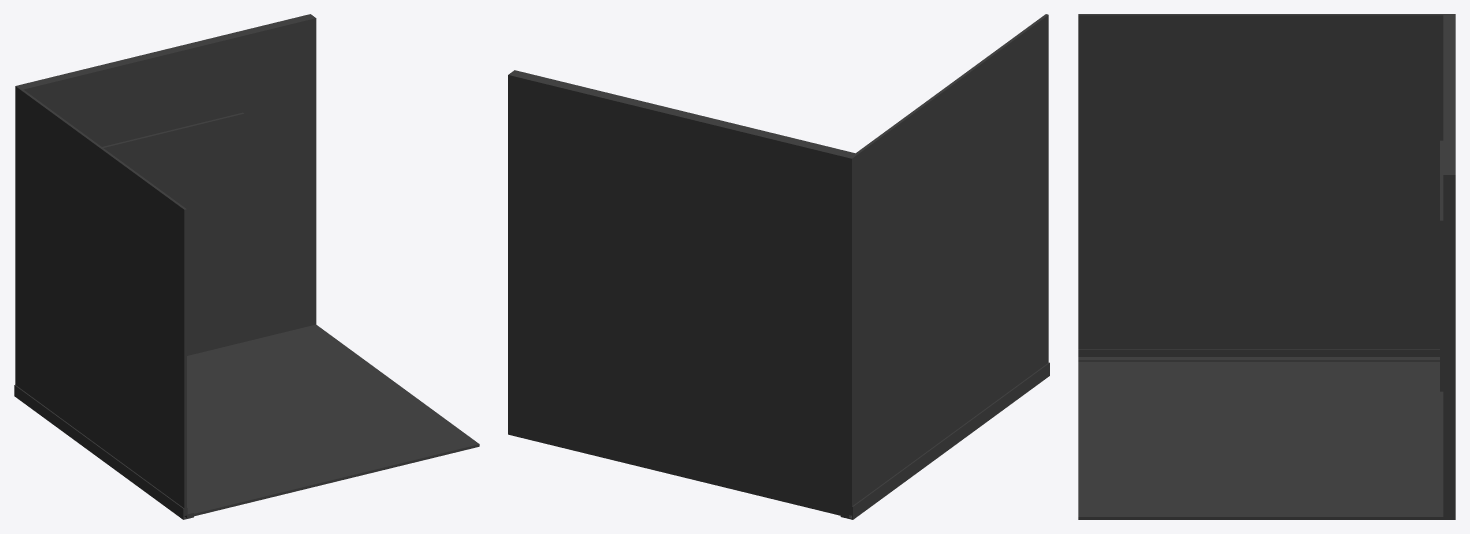
File: ar-box-from-obj.glb
3 renders of one model, left to right at view 1: azimuth 30°, elevation 25°; view 2: azimuth 150°, elevation 25°; view 3: azimuth 270°, elevation 25°, orthographic. The views are drawn at different scales.
Visible parts, largest first — view 1: GEN_Box_QR code.obj_2, GEN_Box_QR code.obj_3, GEN_Box_QR code.obj, GEN_Box_QR code.obj_1; view 2: GEN_Box_QR code.obj_3, GEN_Box_QR code.obj_2, GEN_Box_QR code.obj_1; view 3: GEN_Box_QR code.obj_2, GEN_Box_QR code.obj_3, GEN_Box_QR code.obj_1, GEN_Box_QR code.obj.
Boxes of the visible parts, bbox=[...] form: GEN_Box_QR code.obj_2: bbox=[15, 85, 479, 517]; GEN_Box_QR code.obj_3: bbox=[18, 14, 316, 355]; GEN_Box_QR code.obj: bbox=[102, 112, 244, 280]; GEN_Box_QR code.obj_1: bbox=[14, 385, 193, 519]; GEN_Box_QR code.obj_3: bbox=[508, 70, 854, 514]; GEN_Box_QR code.obj_2: bbox=[508, 14, 1048, 517]; GEN_Box_QR code.obj_1: bbox=[840, 362, 1049, 519]; GEN_Box_QR code.obj_2: bbox=[1078, 14, 1455, 519]; GEN_Box_QR code.obj_3: bbox=[1443, 15, 1455, 516]; GEN_Box_QR code.obj_1: bbox=[1078, 349, 1439, 361]; GEN_Box_QR code.obj: bbox=[1440, 140, 1443, 391].
Bounding box in the file's own units: 607 × 607 × 600.
Materials: 1 (1 with a texture image).
